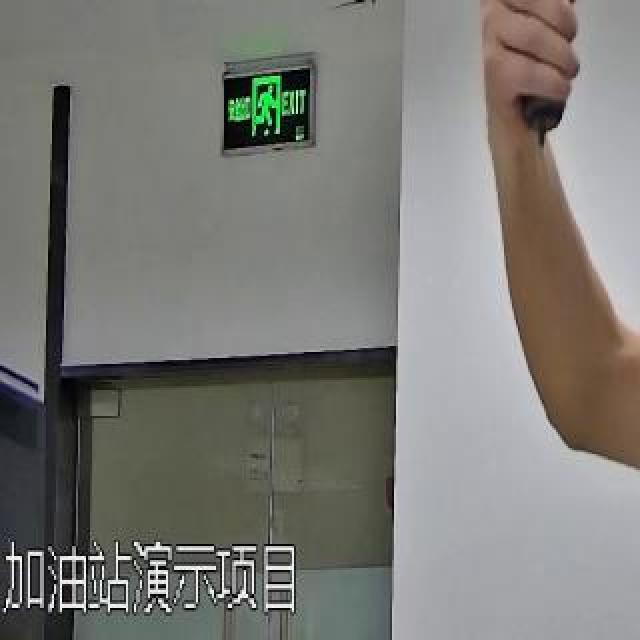Guns: (480, 0, 622, 170)
